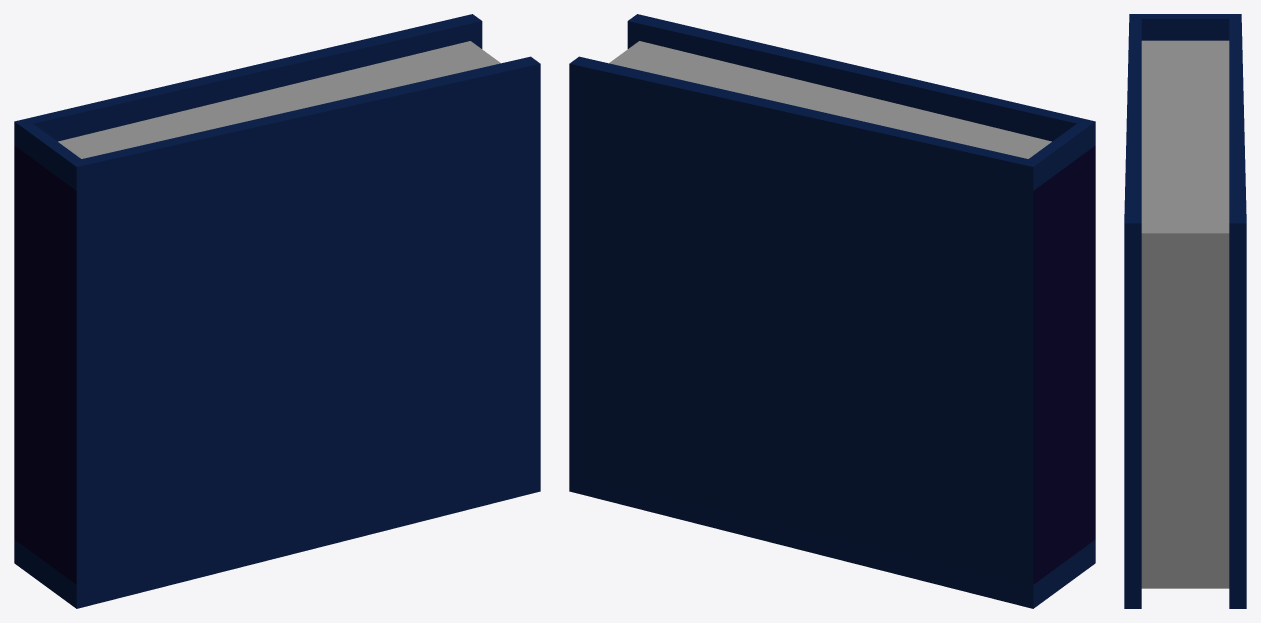
Rendered from OneBook.FBX.
3 views of the same model, side by side, from view 1: azimuth 30°, elevation 25°; view 2: azimuth 150°, elevation 25°; view 3: azimuth 270°, elevation 25° (orthographic). The views are drawn at different scales.
Parts seen in each view (by area): view 1: Box001; view 2: Box001; view 3: Box001.
Boxes of the visible parts, x1,y1,x2,y2 form: Box001: [14, 14, 540, 608]; Box001: [569, 14, 1095, 608]; Box001: [1124, 14, 1246, 608].
Bounding box in the file's own units: 48.9 × 44.8 × 12.48.
